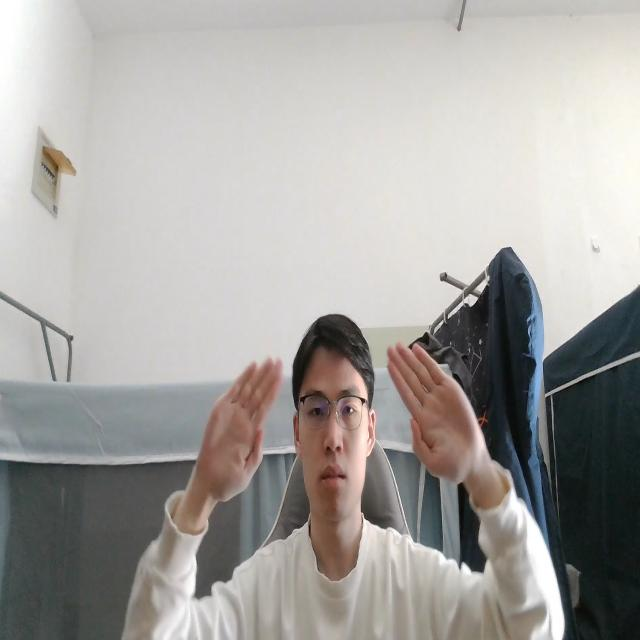five: (384, 341, 484, 486), (195, 355, 285, 508)
